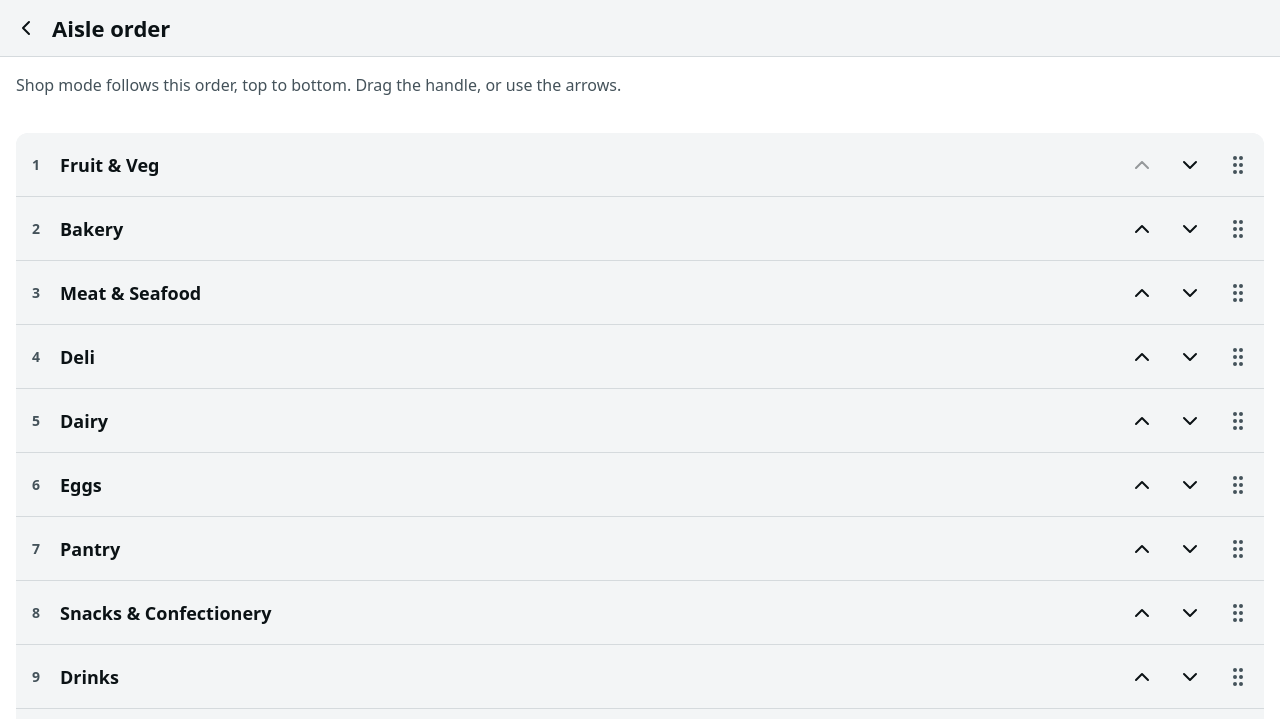
it: Aisle order › moves a row with the arrows, keeps focus on the button, announces and saves once
The image size is (1280, 719).
Click the button named "Move Bakery down" at [1190, 228], box [1168,206,1212,250]
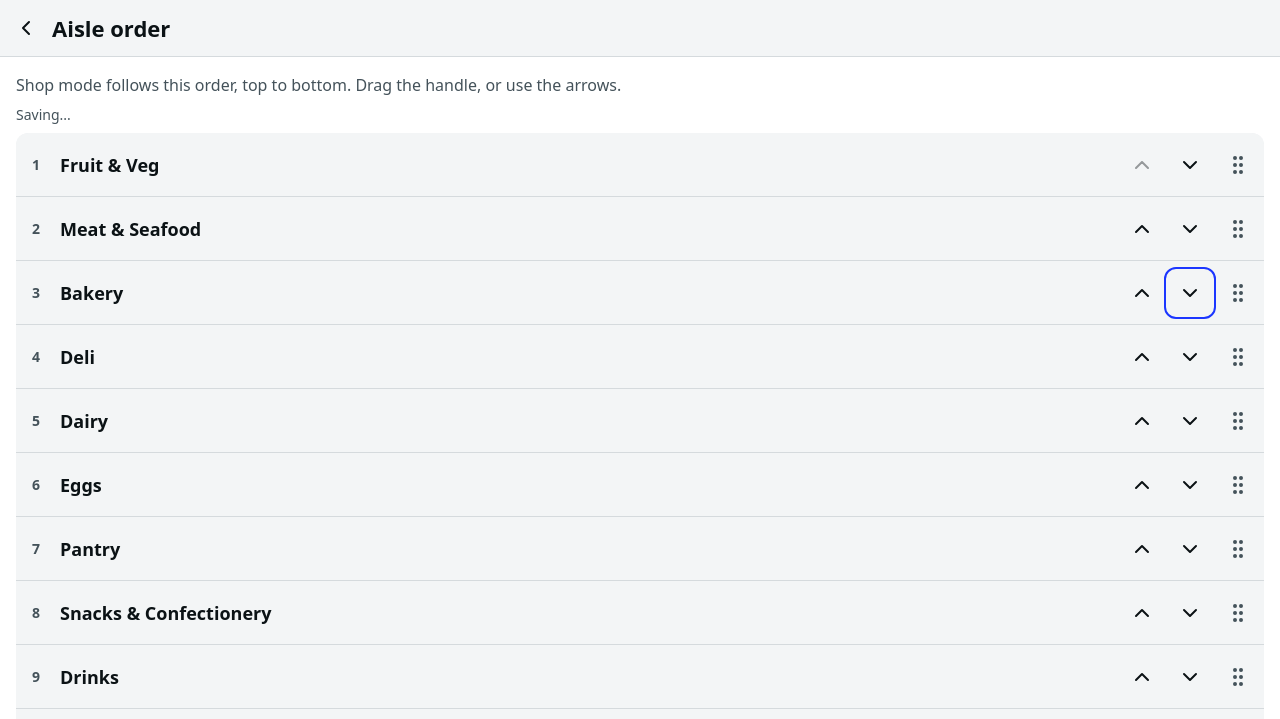
Click the button named "Move Bakery down" at [1190, 292], box [1168,270,1212,314]
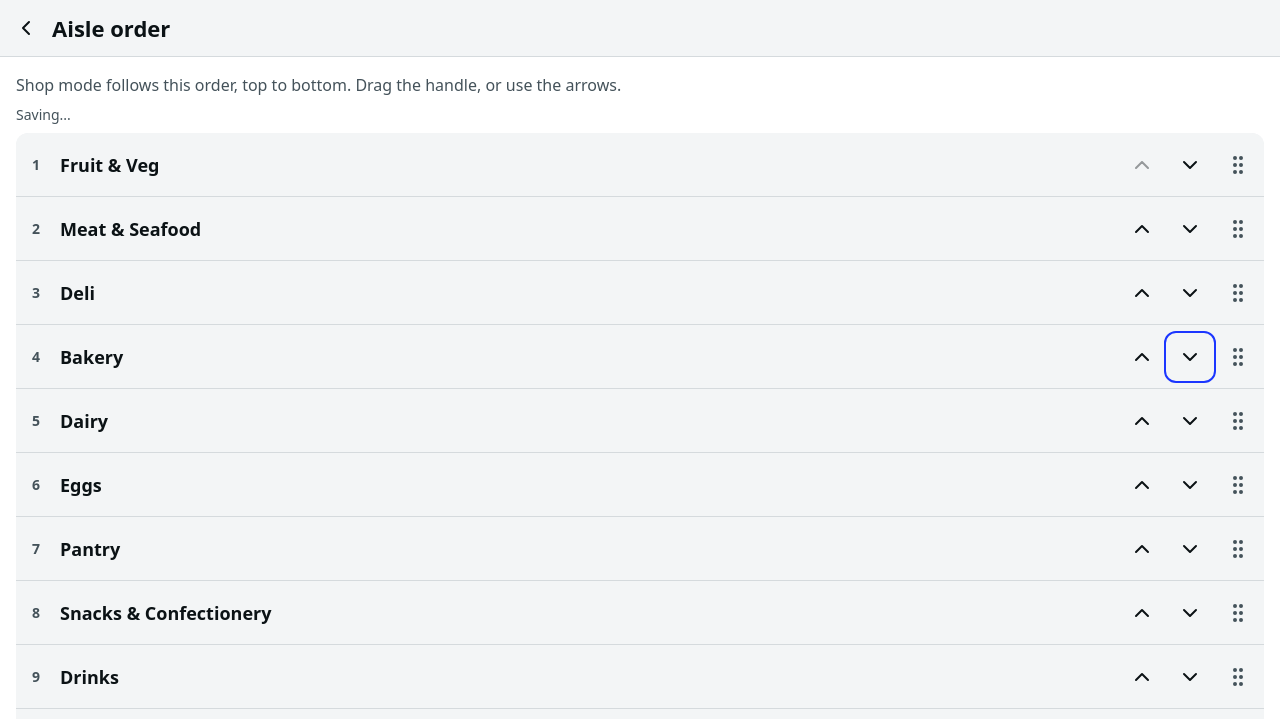
Click the button named "Move Bakery up" at [1142, 356], box [1120,334,1164,378]
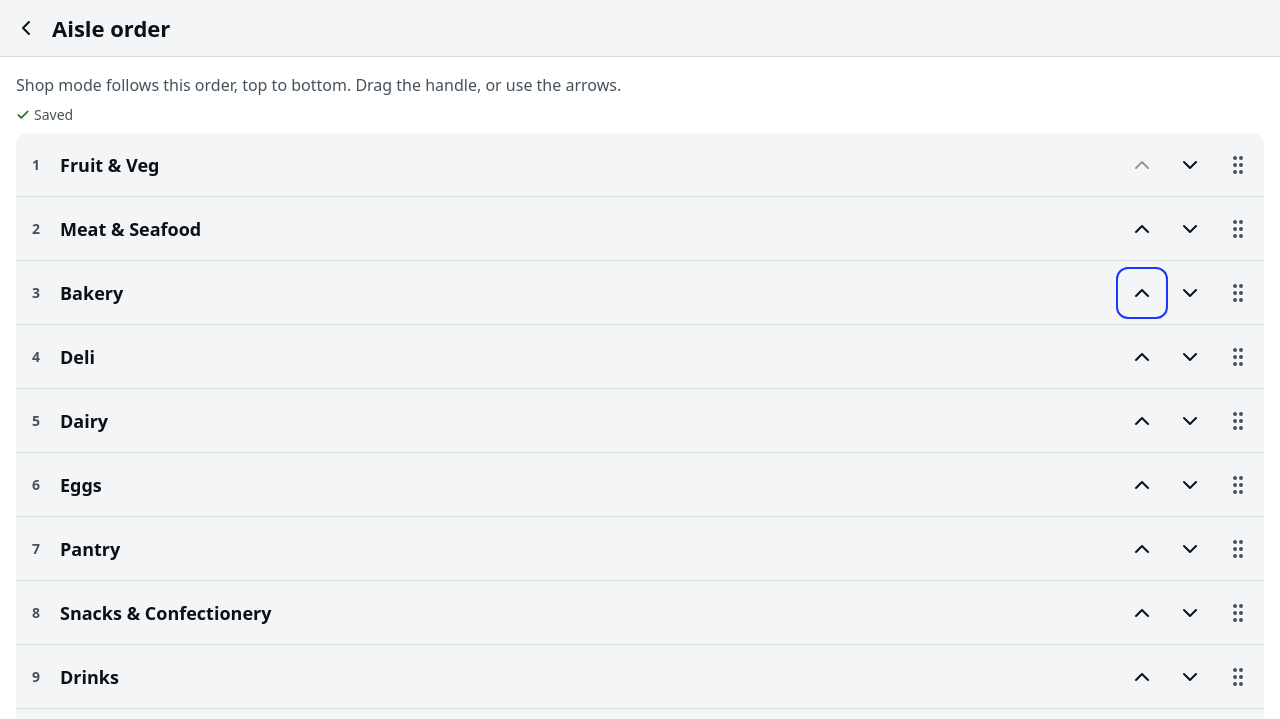
Expected: the text "Saving..." is shown, [16,105,73,124]
Expected: the text "Saved" is shown, [34,105,73,125]
